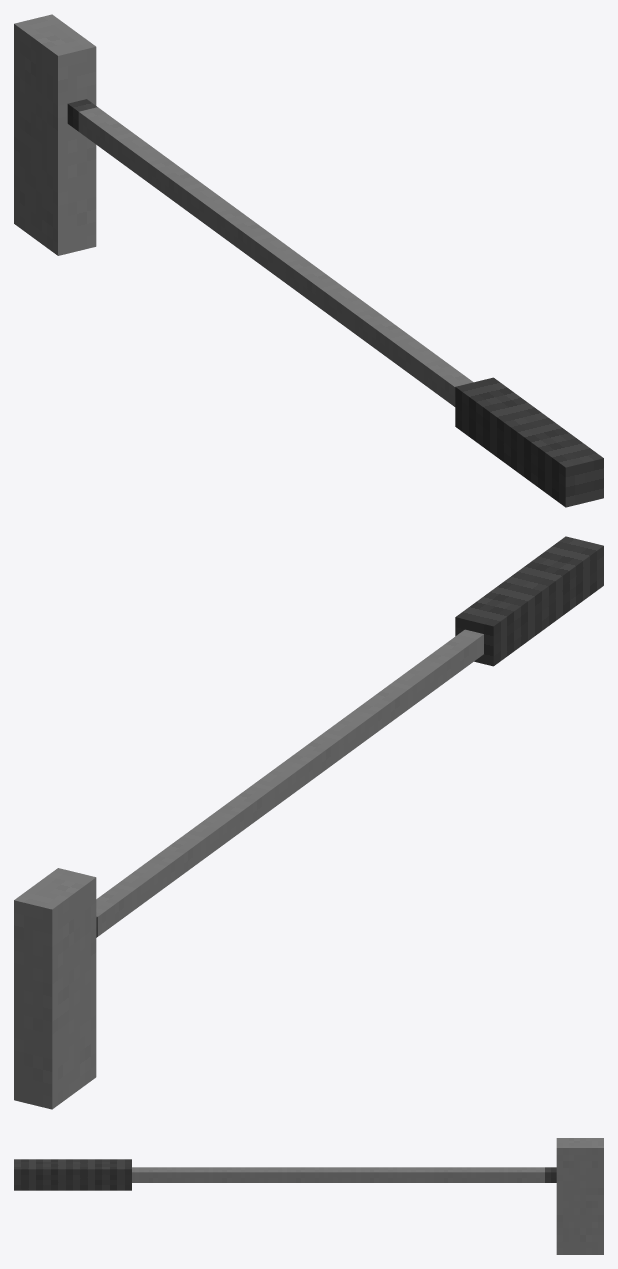
Rendered from club-putter.glb.
The picture shows the model from 3 angles, top to bottom: view 1: azimuth 30°, elevation 25°; view 2: azimuth 150°, elevation 25°; view 3: azimuth 270°, elevation 25°; orthographic projection. The views are drawn at different scales.
Parts seen in each view (by area): view 1: club-putter; view 2: club-putter; view 3: club-putter.
Boxes of the visible parts, x1=… form: club-putter: x1=14, y1=14, x2=603, y2=507; club-putter: x1=14, y1=536, x2=603, y2=1109; club-putter: x1=14, y1=1138, x2=603, y2=1254.
Size of the model in its own units: 0.2 by 1 by 5.
Materials: 1 (1 with a texture image).
